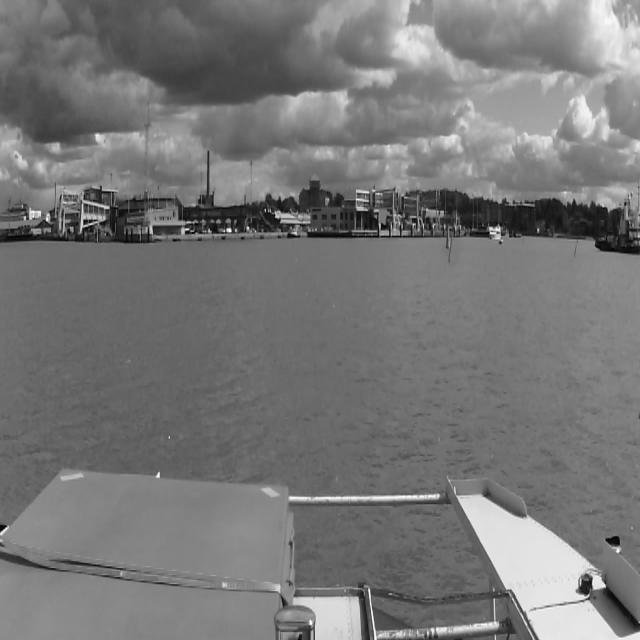buoy: (448, 236, 453, 262), (445, 226, 450, 249), (574, 237, 578, 257)
ship: (598, 193, 638, 257), (489, 224, 501, 240), (499, 238, 503, 246)
